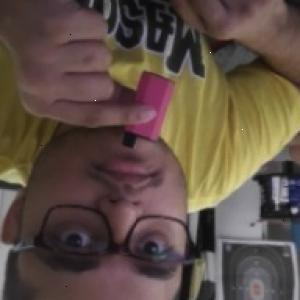Blume-E-Ciggirate: (117, 70, 176, 152)
